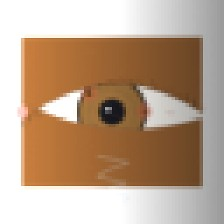foreign_body_visible: (136, 104, 153, 118)
